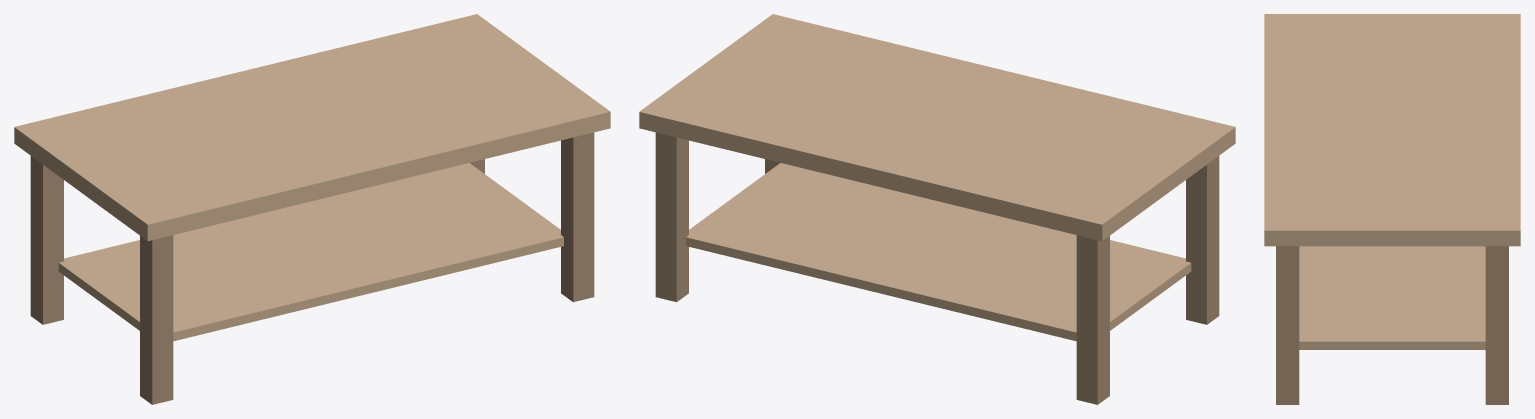
File: coffee_table.glb
3 views of the same model, side by side, from view 1: azimuth 30°, elevation 25°; view 2: azimuth 150°, elevation 25°; view 3: azimuth 270°, elevation 25° (orthographic). The views are drawn at different scales.
Parts seen in each view (by area): view 1: top, shelf, leg (×3); view 2: top, shelf, leg (×3); view 3: top, shelf, leg (×2).
Boxes of the visible parts, x1,y1,x2,y2 form: top: (14,14,610,240); shelf: (58,163,563,341); leg (×3): (30,132,594,404); top: (639,14,1235,240); shelf: (686,163,1191,341); leg (×3): (655,132,1219,404); top: (1264,14,1520,246); shelf: (1299,246,1485,349); leg (×2): (1276,246,1508,404).
Bounding box in the file's own units: 1.12 × 0.4318 × 0.5588.
